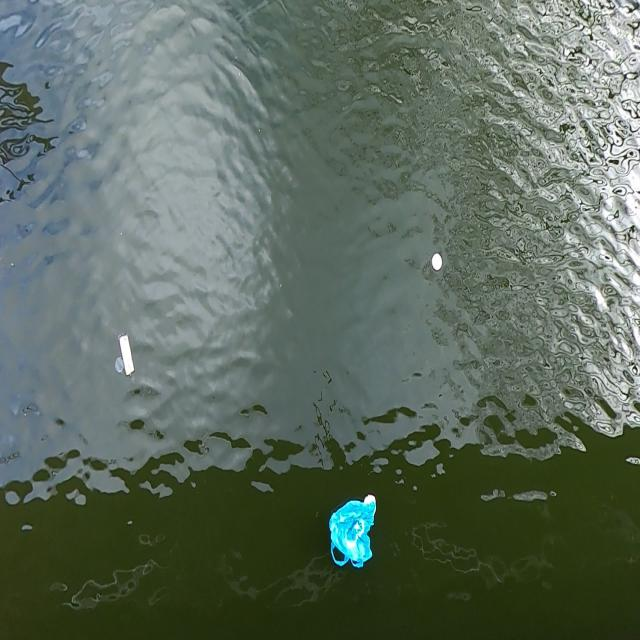Sac plastique: (322, 486, 382, 580)
